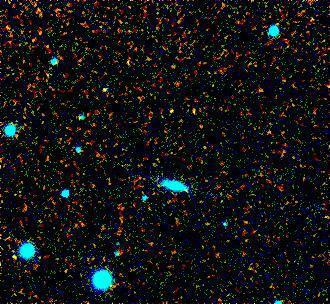star: (0, 245, 30, 275)
